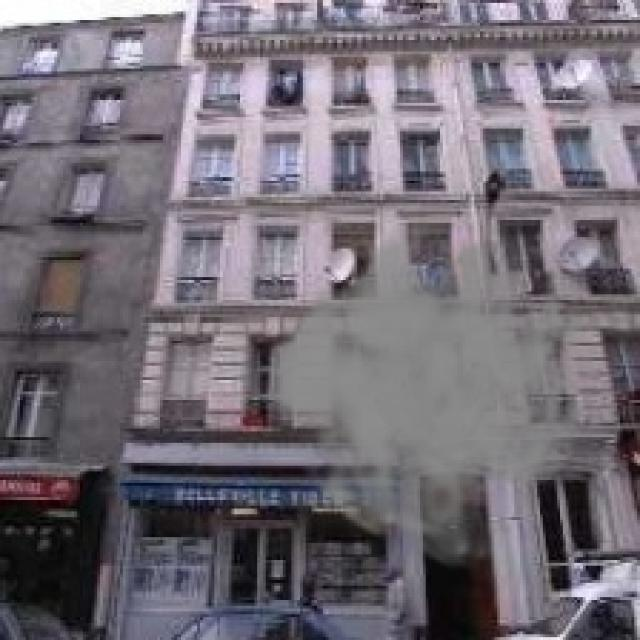smoke: (260, 206, 606, 574)
